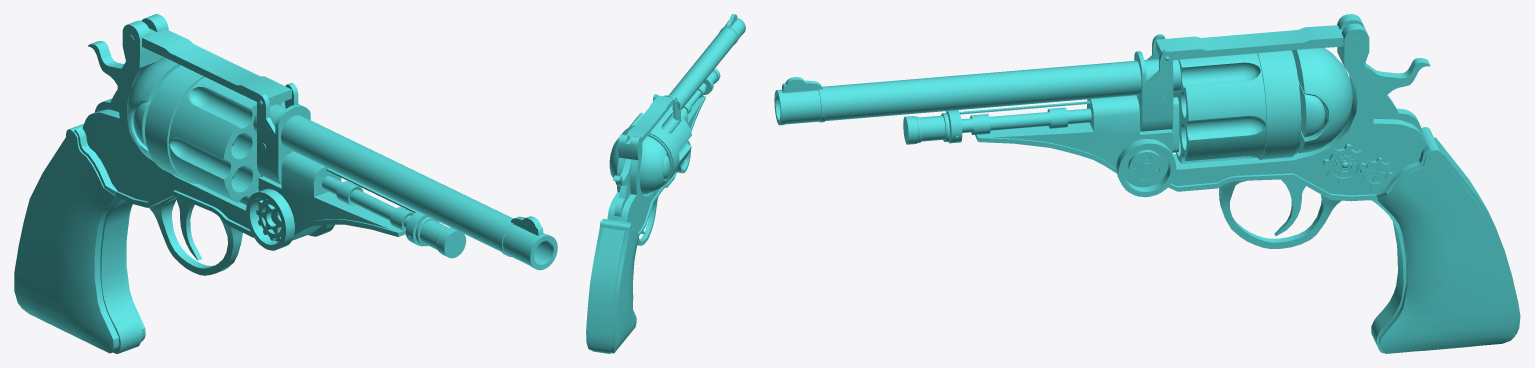
The model's file is gun.fbx.
3 views of the same model, side by side, from view 1: azimuth 30°, elevation 25°; view 2: azimuth 150°, elevation 25°; view 3: azimuth 270°, elevation 25° (orthographic). The views are drawn at different scales.
Visible parts, largest first — view 1: pasted__ru_low, pasted__korpus_low, pasted__stvol_low, pasted__bar_low, pasted__skoba_low, pasted__ram_low, pasted__bar_decor_low, pasted__pered_ram_low, pasted__decor_low, pasted__ru.002_low, pasted__zasch_low, pasted__somp_low (+8 smaller); view 2: pasted__skoba_low, pasted__ru_low, pasted__korpus_low, pasted__stvol_low, pasted__zasch_low, pasted__bar_low, pasted__ram_low, pasted__kurok_low, pasted__bar_decor_low, pasted__ru.002_low, pasted__pered_ram_low, pasted__decor_low (+1 smaller); view 3: pasted__ru_low, pasted__korpus_low, pasted__stvol_low, pasted__bar_low, pasted__skoba_low, pasted__ram_low, pasted__zasch_low, pasted__bar_decor_low, pasted__pered_ram_low, pasted__decorR_low, pasted__ru.002_low, pasted__kurok_low (+7 smaller).
Part boxes in pixels (<box>): pasted__ru_low: <box>14,124,145,353</box>; pasted__korpus_low: <box>82,14,401,240</box>; pasted__stvol_low: <box>253,104,550,265</box>; pasted__bar_low: <box>145,66,298,204</box>; pasted__skoba_low: <box>100,196,242,353</box>; pasted__ram_low: <box>142,29,291,106</box>; pasted__bar_decor_low: <box>145,65,204,183</box>; pasted__pered_ram_low: <box>257,83,310,184</box>; pasted__decor_low: <box>246,189,294,250</box>; pasted__ru.002_low: <box>74,127,253,237</box>; pasted__zasch_low: <box>127,57,180,162</box>; pasted__somp_low: <box>322,176,411,228</box>; pasted__skoba_low: <box>589,197,658,353</box>; pasted__ru_low: <box>586,220,638,353</box>; pasted__korpus_low: <box>607,96,703,232</box>; pasted__stvol_low: <box>669,19,744,117</box>; pasted__zasch_low: <box>609,136,666,194</box>; pasted__bar_low: <box>626,109,691,183</box>; pasted__ram_low: <box>626,95,672,141</box>; pasted__kurok_low: <box>613,159,632,216</box>; pasted__bar_decor_low: <box>611,125,679,187</box>; pasted__ru.002_low: <box>602,171,676,235</box>; pasted__pered_ram_low: <box>653,94,680,120</box>; pasted__decor_low: <box>676,141,690,173</box>; pasted__ru_low: <box>1377,127,1517,353</box>; pasted__korpus_low: <box>978,14,1426,195</box>; pasted__stvol_low: <box>780,58,1181,124</box>; pasted__bar_low: <box>1173,50,1301,163</box>; pasted__skoba_low: <box>1219,137,1520,353</box>; pasted__ram_low: <box>1156,25,1343,60</box>; pasted__zasch_low: <box>1292,48,1352,153</box>; pasted__bar_decor_low: <box>1257,50,1298,159</box>; pasted__pered_ram_low: <box>1134,34,1173,131</box>; pasted__decorR_low: <box>1116,138,1176,197</box>; pasted__ru.002_low: <box>1168,128,1431,201</box>; pasted__kurok_low: <box>1365,58,1430,131</box>.
Size of the model in its own units: 44.82 by 86.29 by 177.
